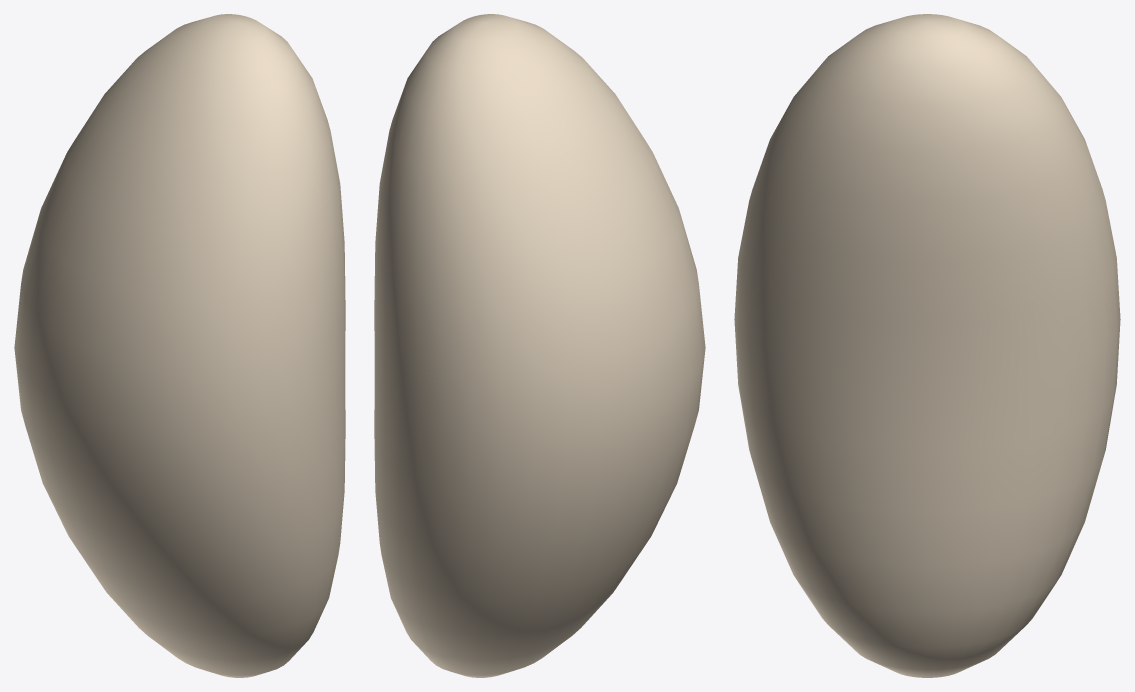
The model's file is Rice Grain.fbx.
3 views of the same model, side by side, from view 1: azimuth 30°, elevation 25°; view 2: azimuth 150°, elevation 25°; view 3: azimuth 270°, elevation 25° (orthographic).
Parts seen in each view (by area): view 1: Sphere; view 2: Sphere; view 3: Sphere.
Boxes of the visible parts, x1,y1,x2,y2 form: Sphere: [14, 14, 345, 677]; Sphere: [374, 14, 705, 677]; Sphere: [734, 14, 1120, 677].
Bounding box in the file's own units: 164 × 372 × 200.
